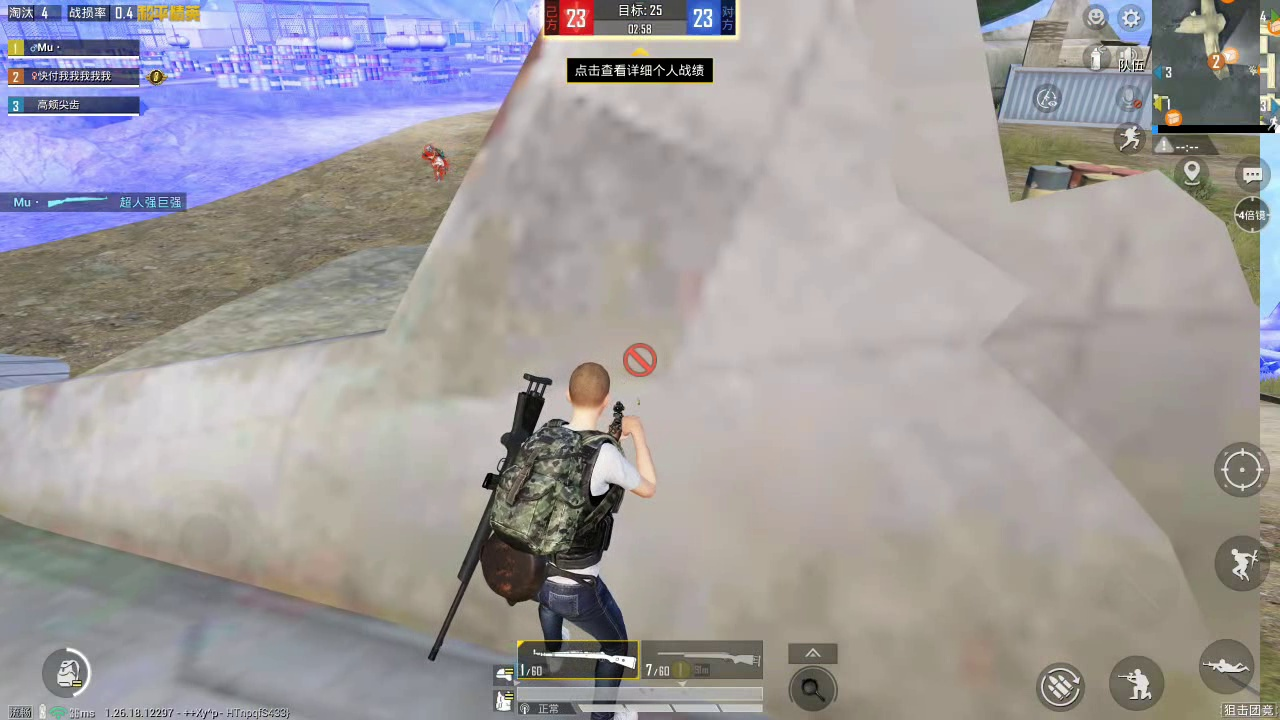enemy: (419, 141, 449, 179)
